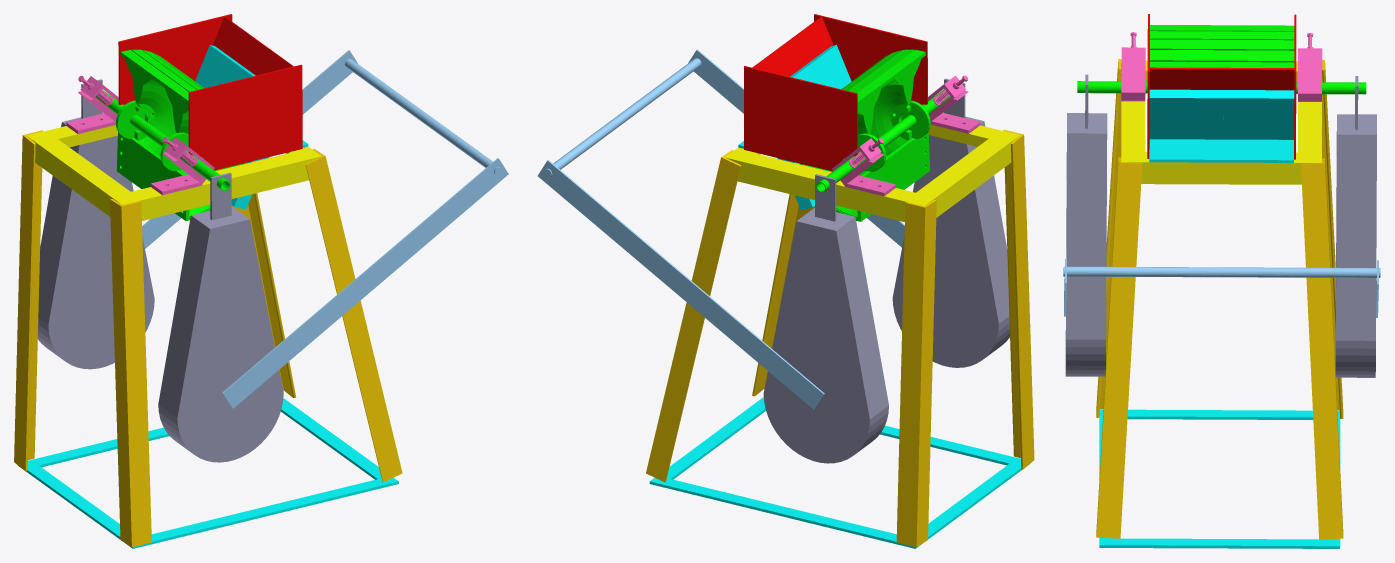
The model's file is Pendulum Color glTF.glb.
The picture shows the model from 3 angles, left to right: view 1: azimuth 30°, elevation 25°; view 2: azimuth 150°, elevation 25°; view 3: azimuth 270°, elevation 25°; orthographic projection. The views are drawn at different scales.
Parts seen in each view (by area): view 1: b_Pendulum_assembly_001_, b_Hopper1_001_, b_Pendulum_assembly_001_001, b_Handle_assembly_001_, b_leg_angle_001_, b_Rotor_Base_001_, b_Crusher_Head_Assembly_001_, b_leg_angle_001_002, b_leg_angle_001_001, b_frame_base_001_, b_leg_angle_001_003, b_static_head_assembly_001_ (+2 smaller); view 2: b_Pendulum_assembly_001_001, b_Hopper1_001_, b_Pendulum_assembly_001_, b_leg_angle_001_001, b_Handle_assembly_001_, b_Rotor_Base_001_, b_Crusher_Head_Assembly_001_, b_frame_base_001_, b_leg_angle_001_003, b_leg_angle_001_, b_leg_angle_001_002, b_static_head_assembly_001_ (+2 smaller); view 3: b_static_head_assembly_001_, b_Pendulum_assembly_001_, b_Pendulum_assembly_001_001, b_leg_angle_001_003, b_leg_angle_001_002, b_Crusher_Head_Assembly_001_, b_Rotor_Base_001_, b_frame_base_001_, b_Hopper1_001_, b_Handle_assembly_001_, b_leg_angle_001_, b_leg_angle_001_001 (+2 smaller).
Boxes of the visible parts, left/top/right/bottom form: b_Pendulum_assembly_001_: left=158, top=172, right=283, bottom=462; b_Hopper1_001_: left=118, top=14, right=302, bottom=170; b_Pendulum_assembly_001_001: left=37, top=79, right=154, bottom=369; b_Handle_assembly_001_: left=142, top=50, right=508, bottom=408; b_leg_angle_001_: left=110, top=199, right=151, bottom=547; b_Rotor_Base_001_: left=27, top=125, right=321, bottom=220; b_Crusher_Head_Assembly_001_: left=95, top=49, right=247, bottom=220; b_leg_angle_001_002: left=305, top=149, right=402, bottom=482; b_leg_angle_001_001: left=14, top=130, right=43, bottom=471; b_frame_base_001_: left=18, top=398, right=398, bottom=548; b_leg_angle_001_003: left=231, top=193, right=296, bottom=397; b_static_head_assembly_001_: left=195, top=45, right=308, bottom=209; b_Pendulum_assembly_001_001: left=763, top=174, right=888, bottom=463; b_Hopper1_001_: left=744, top=14, right=927, bottom=171; b_Pendulum_assembly_001_: left=892, top=78, right=1009, bottom=367; b_leg_angle_001_001: left=896, top=200, right=936, bottom=547; b_Handle_assembly_001_: left=537, top=49, right=904, bottom=409; b_Rotor_Base_001_: left=725, top=124, right=1019, bottom=221; b_Crusher_Head_Assembly_001_: left=799, top=49, right=959, bottom=221; b_frame_base_001_: left=649, top=397, right=1030, bottom=548; b_leg_angle_001_003: left=646, top=150, right=741, bottom=482; b_leg_angle_001_: left=1003, top=129, right=1034, bottom=469; b_leg_angle_001_002: left=752, top=194, right=814, bottom=396; b_static_head_assembly_001_: left=738, top=45, right=851, bottom=210; b_static_head_assembly_001_: left=1149, top=89, right=1294, bottom=162; b_Pendulum_assembly_001_: left=1065, top=74, right=1107, bottom=376; b_Pendulum_assembly_001_001: left=1335, top=76, right=1376, bottom=377; b_leg_angle_001_003: left=1301, top=158, right=1343, bottom=539; b_leg_angle_001_002: left=1096, top=157, right=1142, bottom=538; b_Crusher_Head_Assembly_001_: left=1077, top=25, right=1366, bottom=94; b_Rotor_Base_001_: left=1121, top=60, right=1321, bottom=184; b_frame_base_001_: left=1099, top=409, right=1340, bottom=548; b_Hopper1_001_: left=1147, top=14, right=1296, bottom=159; b_Handle_assembly_001_: left=1063, top=259, right=1380, bottom=317; b_leg_angle_001_: left=1096, top=59, right=1121, bottom=417; b_leg_angle_001_001: left=1322, top=60, right=1343, bottom=418.
Bounding box in the file's own units: 4.9 × 5.44 × 3.55.
